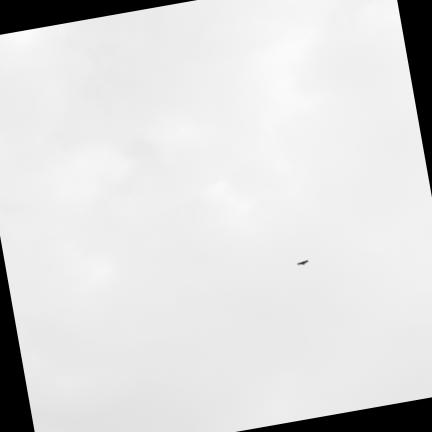Shahed: (297, 260, 308, 265)
